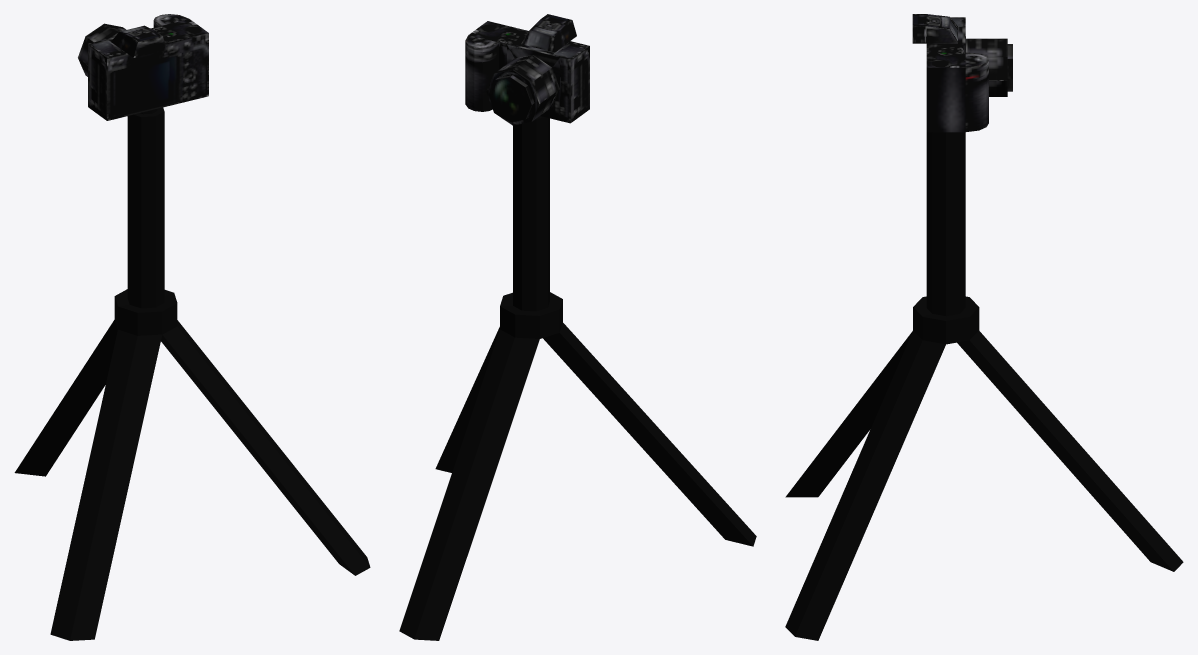
Rendered from camera_tri_pod.fbx.
3 views of the same model, side by side, from view 1: azimuth 30°, elevation 25°; view 2: azimuth 150°, elevation 25°; view 3: azimuth 270°, elevation 25° (orthographic).
Visible parts, largest first — view 1: Camera_Tri_Pod; view 2: Camera_Tri_Pod; view 3: Camera_Tri_Pod.
Part boxes in pixels (x1,y1,x2,y2): Camera_Tri_Pod: (14, 14, 370, 640); Camera_Tri_Pod: (399, 14, 756, 640); Camera_Tri_Pod: (785, 14, 1183, 640).
Size of the model in its own units: 1459 by 2313 by 1559.
